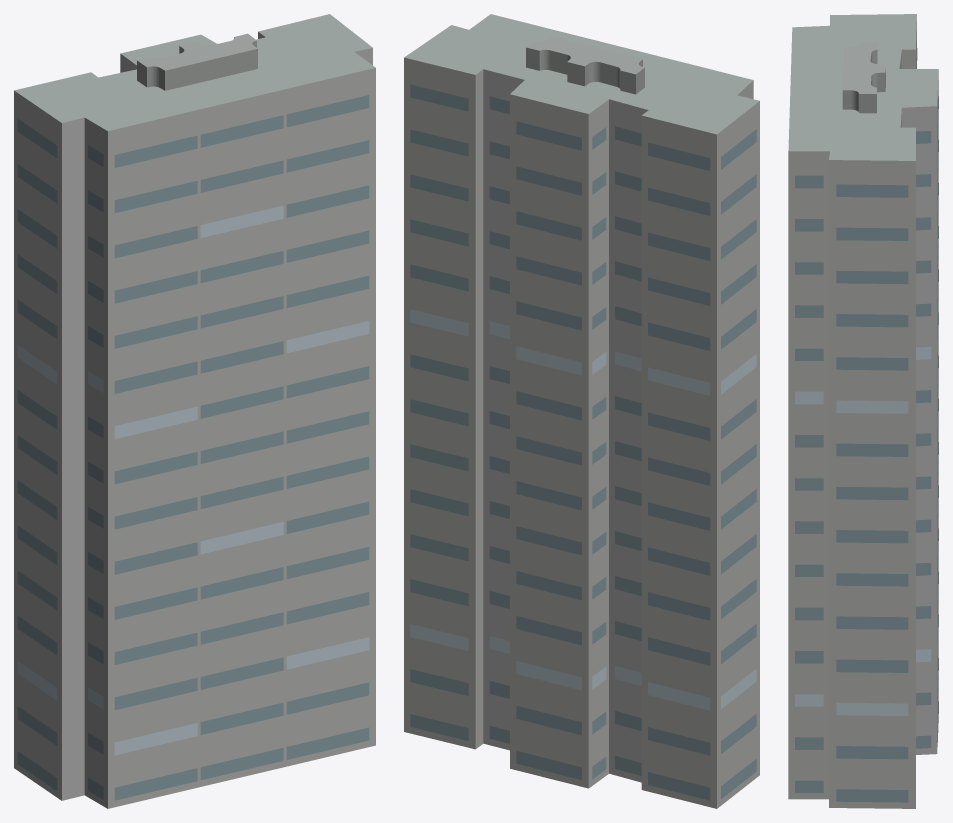
File: fallback-gangdong-lotte-castle-first-136.glb
3 views of the same model, side by side, from view 1: azimuth 30°, elevation 25°; view 2: azimuth 150°, elevation 25°; view 3: azimuth 270°, elevation 25° (orthographic). The views are drawn at different scales.
Visible parts, largest first — view 1: fallback-gangdong-lotte-castle-first-136; view 2: fallback-gangdong-lotte-castle-first-136; view 3: fallback-gangdong-lotte-castle-first-136.
Boxes of the visible parts, box(x1,y1,x2,y2) form: fallback-gangdong-lotte-castle-first-136: box(14, 14, 375, 808); fallback-gangdong-lotte-castle-first-136: box(404, 14, 759, 808); fallback-gangdong-lotte-castle-first-136: box(788, 14, 938, 808).
Bounding box in the file's own units: 39.27 × 83 × 16.99.
